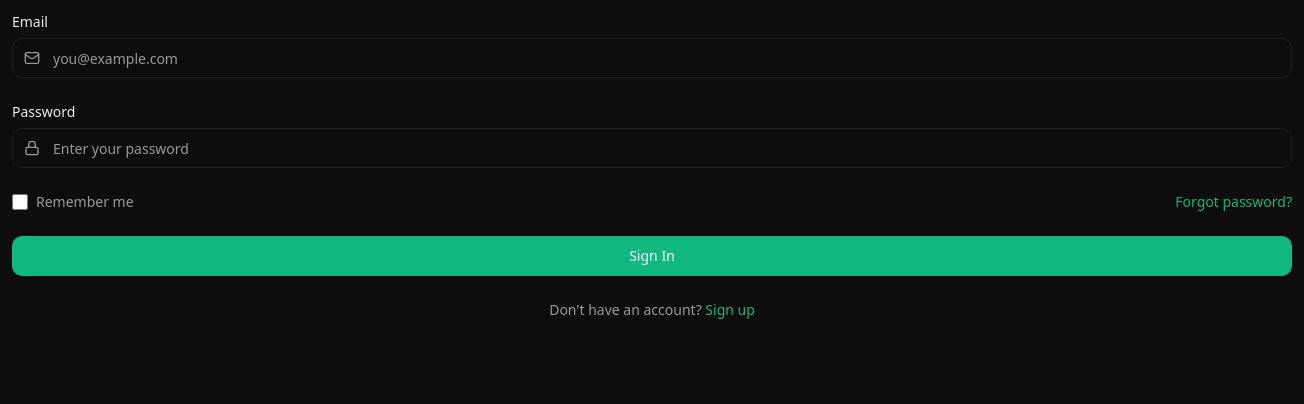
it: LoginForm › accessibility › error message has icon
Type "user@example.com" into the field labelled "Email". click: point(652, 58)
box: 12,38 -> 1292,78
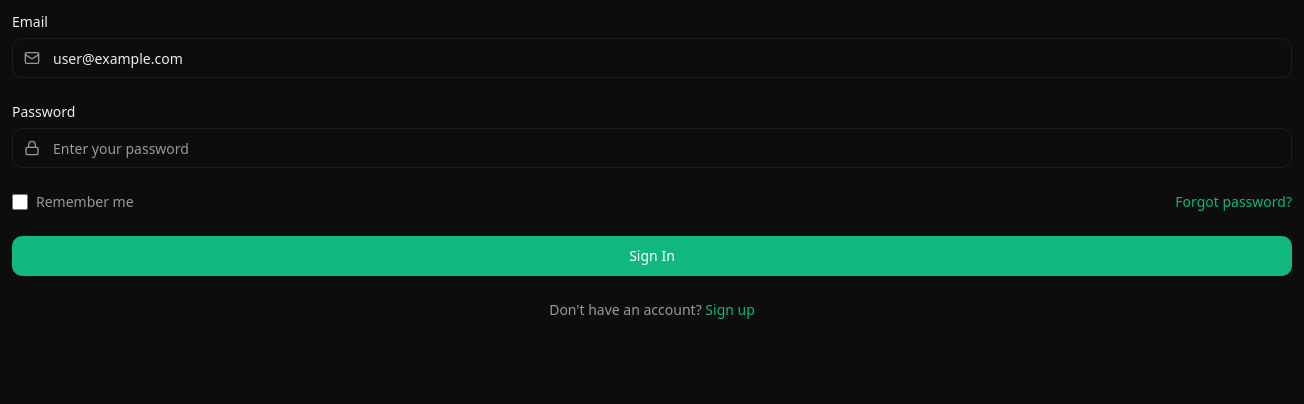
Type "password123" into the password field labelled "Password". click: point(652, 148)
box: 12,128 -> 1292,168
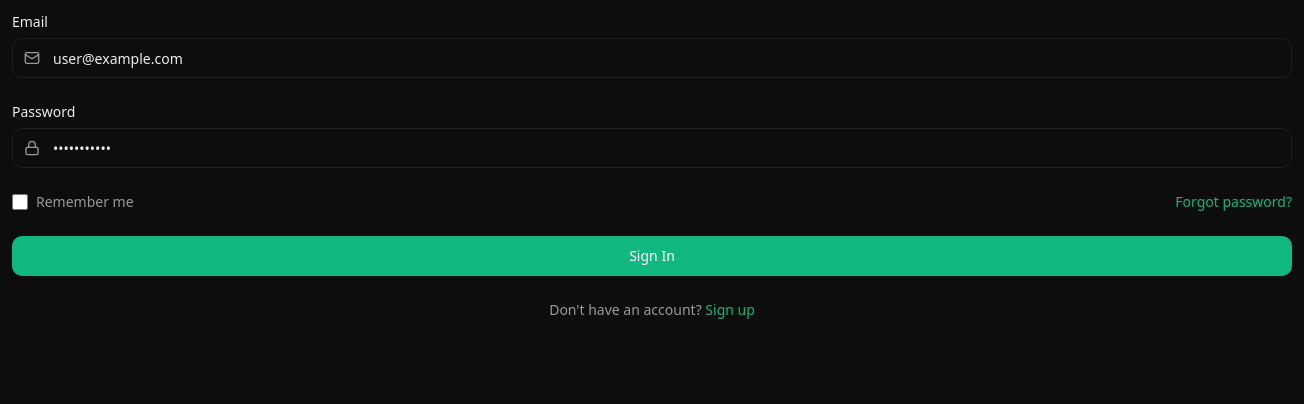
Click the button "Sign In". click: point(652, 256)
box: 12,236 -> 1292,276
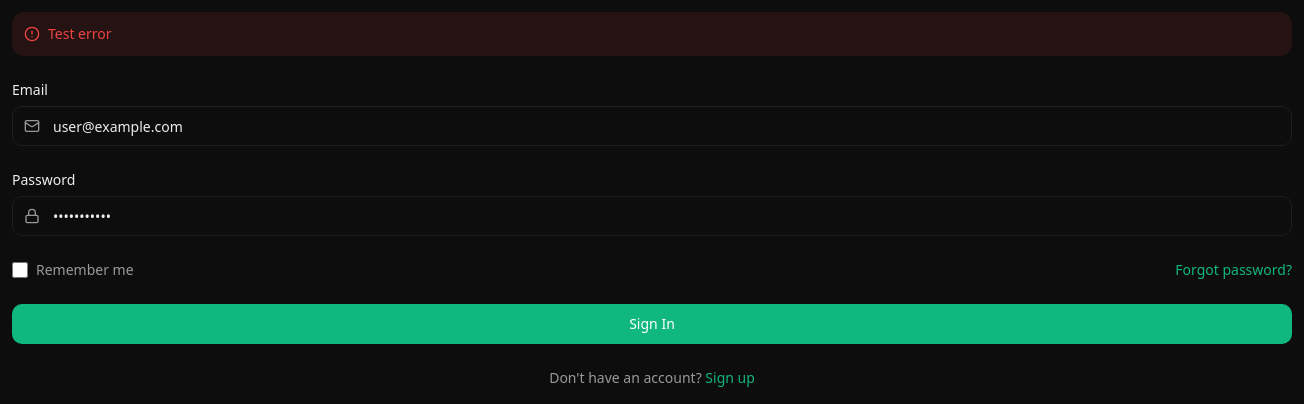
Check: the element showing "Test error" is shown, box 12,12 -> 1292,56
Check: the icon next to "Test error" is shown, box 24,26 -> 40,42
